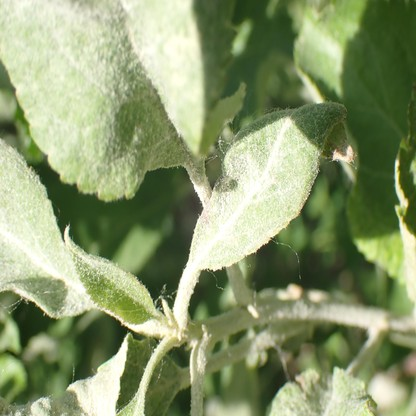powdery_mildew: (0, 1, 185, 202), (190, 101, 356, 271), (0, 141, 95, 316), (0, 331, 129, 416), (65, 222, 157, 325), (264, 365, 377, 416)
